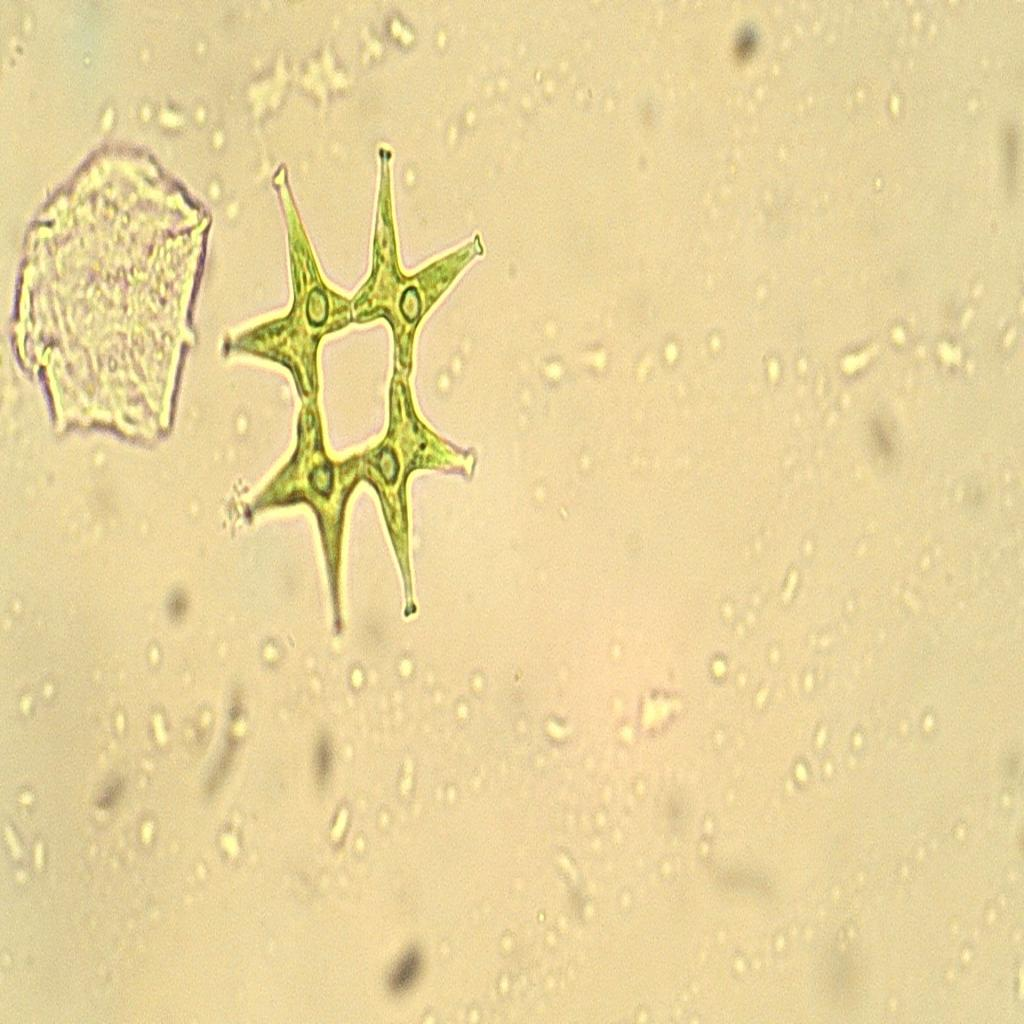Pediastrum_75O: (182, 140, 505, 644)
